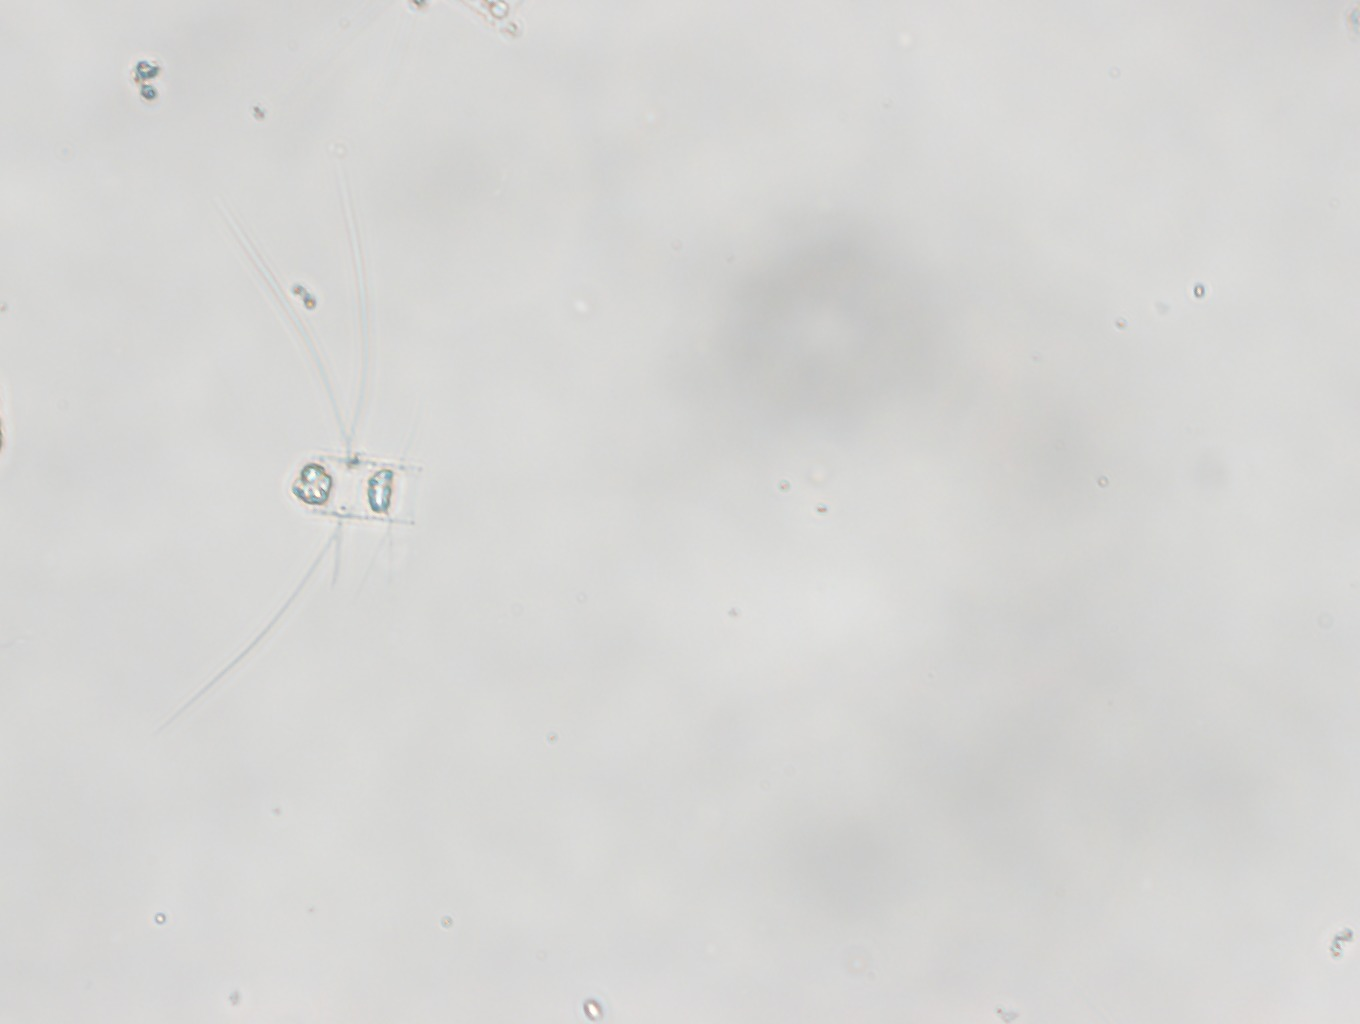chaetoceros: (148, 175, 432, 759)
